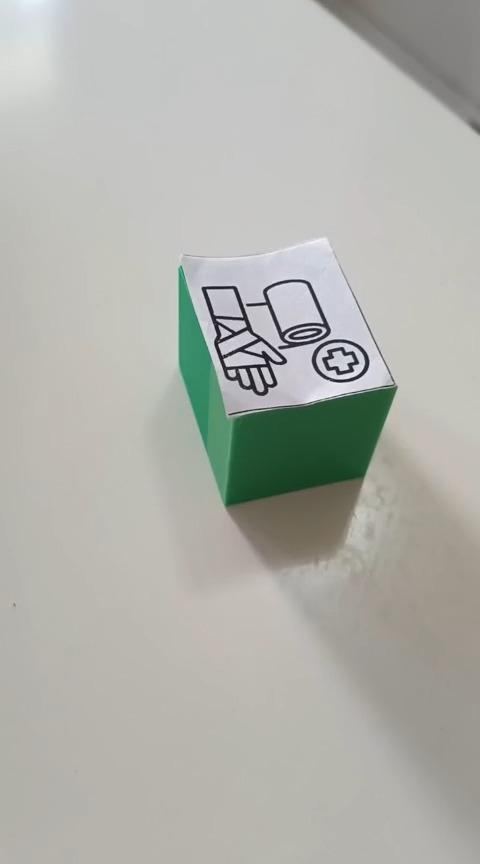Bandages: (176, 235, 398, 507)
